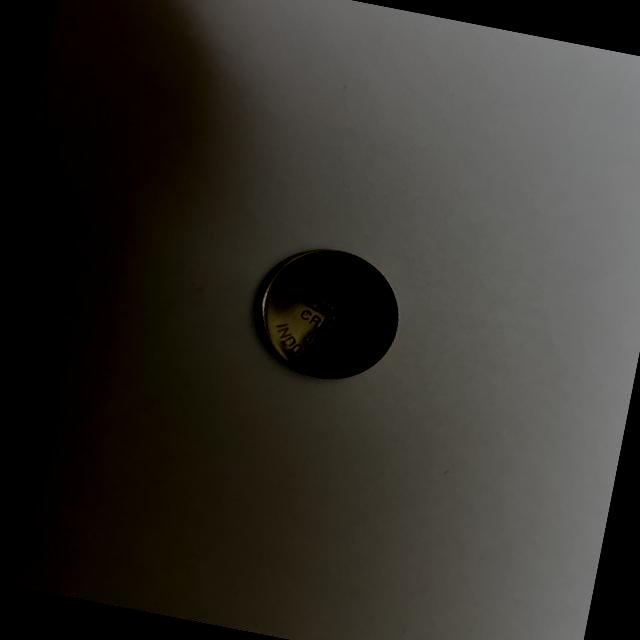COIN: (239, 234, 413, 393)
